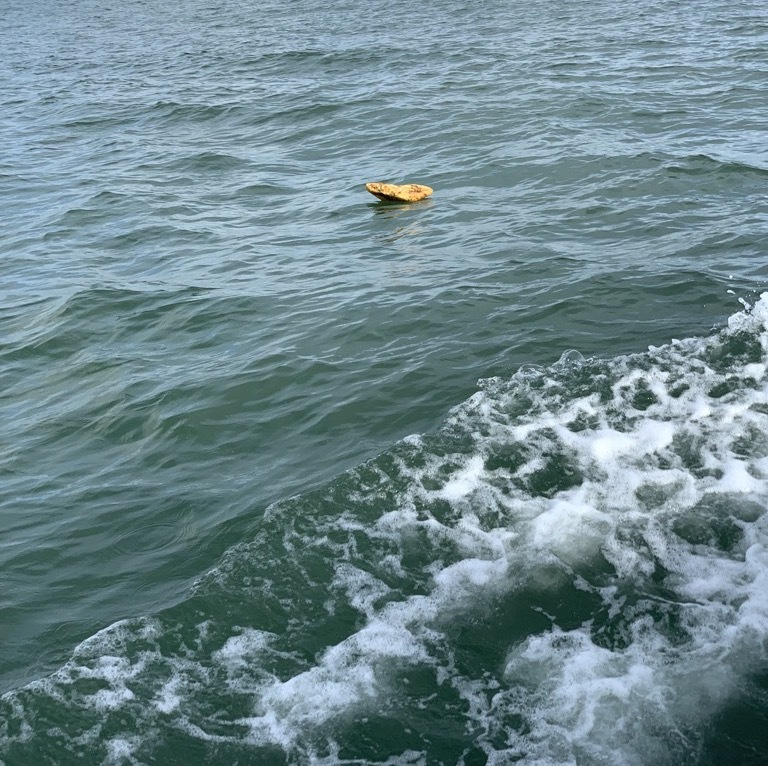plastic: (350, 154, 445, 257)
